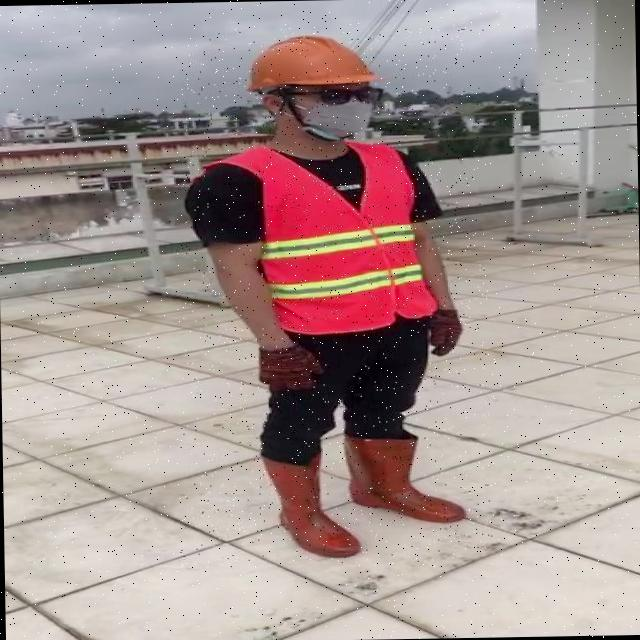boots: (342, 430, 468, 526), (258, 452, 360, 560)
helmet: (236, 27, 382, 92)
vest: (258, 141, 438, 332)
